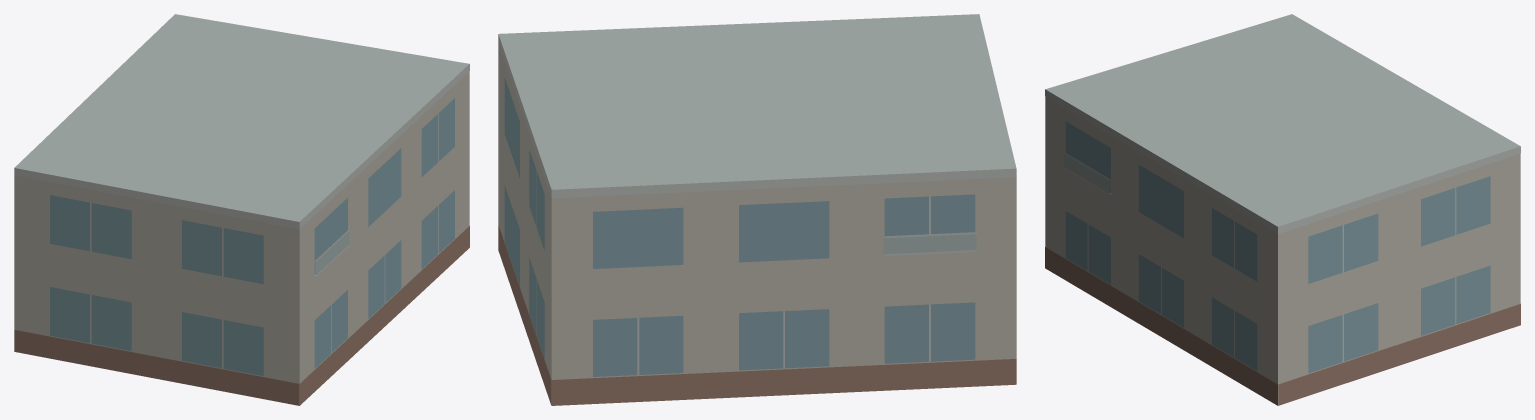
File: survey-upis-32662344.glb
3 renders of one model, left to right at view 1: azimuth 30°, elevation 25°; view 2: azimuth 150°, elevation 25°; view 3: azimuth 270°, elevation 25°, orthographic. The views are drawn at different scales.
Visible parts, largest first — view 1: survey-upis-32662344.tmp; view 2: survey-upis-32662344.tmp; view 3: survey-upis-32662344.tmp.
Part boxes in pixels (x1,y1,x2,y2): survey-upis-32662344.tmp: (14, 14, 469, 405); survey-upis-32662344.tmp: (498, 14, 1016, 405); survey-upis-32662344.tmp: (1045, 14, 1520, 405).
Bounding box in the file's own units: 15.57 × 6.1 × 14.7.
